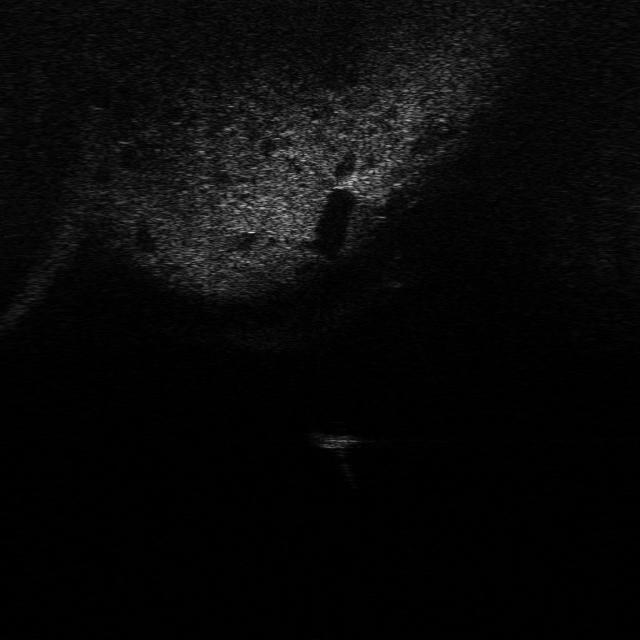ball: (382, 254, 411, 289)
cube: (302, 426, 366, 452)
